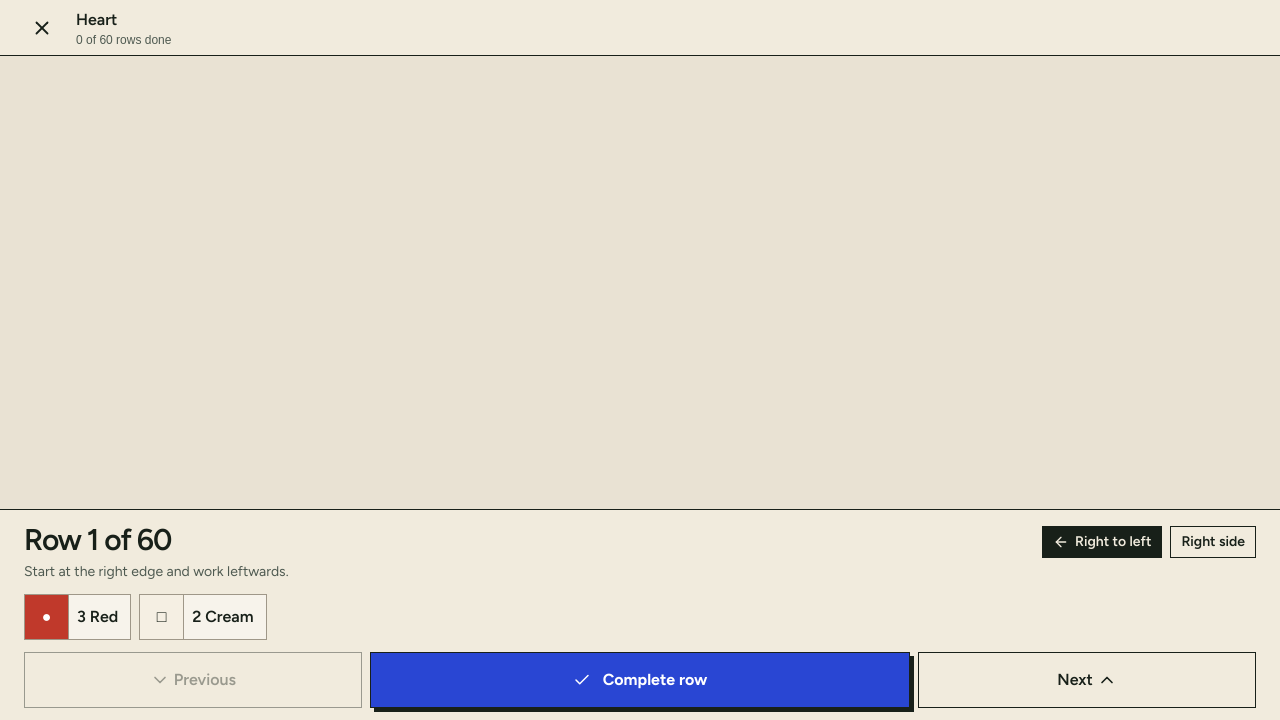
Test: FollowMode › marks a row complete and moves to the next row
The width and height of the screenshot is (1280, 720).
Click the button with aria-label "Complete row 1".
click(640, 680)  # box x1=370 y1=652 x2=910 y2=708
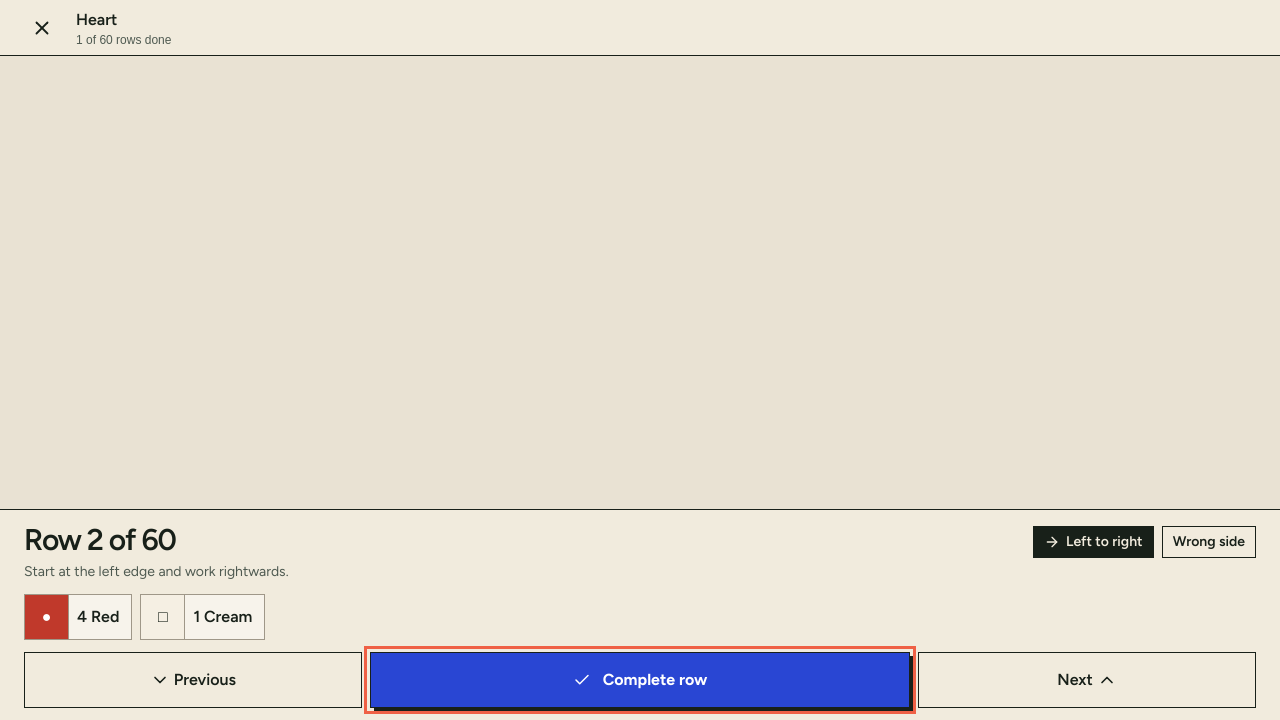
Expected: the heading "Row 2 of 60" is shown, x1=24 y1=522 x2=176 y2=558
Expected: the text "1 of 60 rows done" is shown, x1=76 y1=32 x2=171 y2=46
